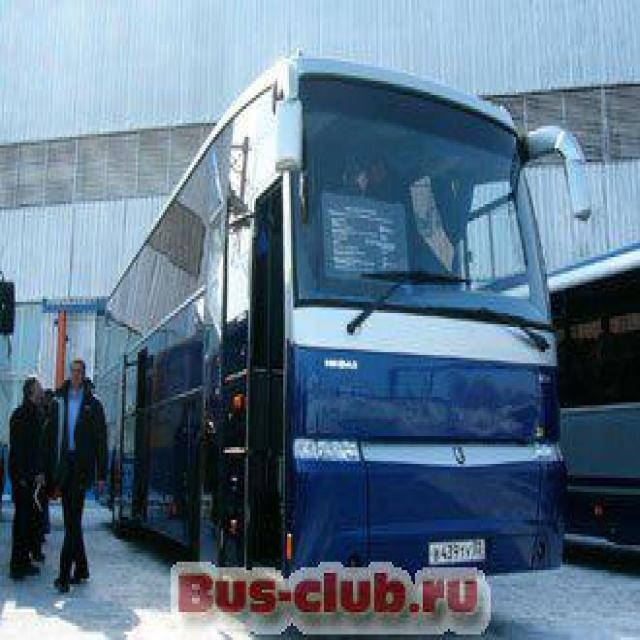Bus: (92, 50, 596, 590)
